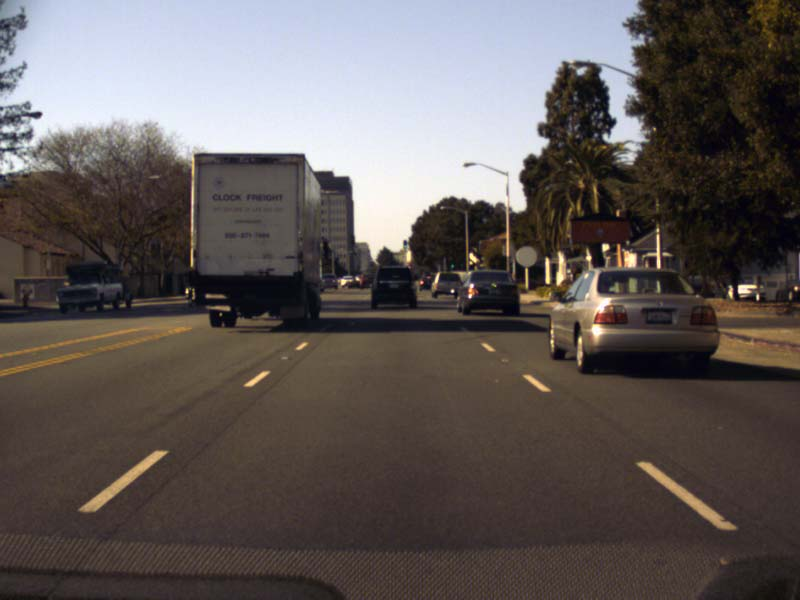Green: (450, 258, 454, 269), (403, 240, 407, 248)
